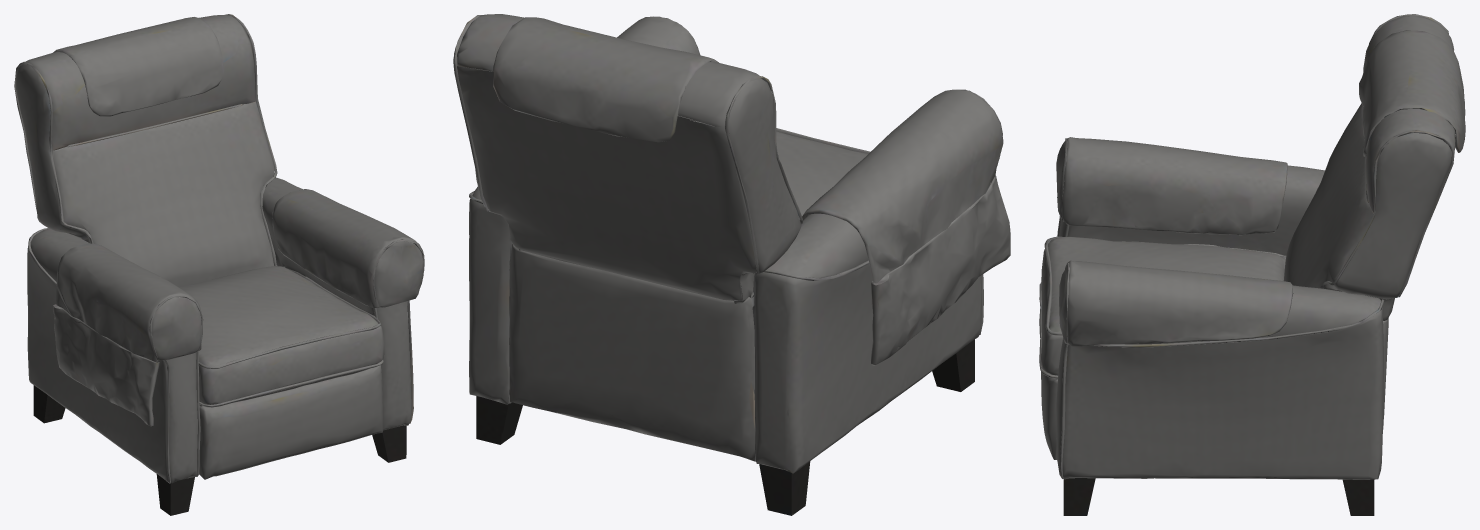
Rendered from 28 - MUREN Recliner - Remmarn light grey.glb.
3 renders of one model, left to right at view 1: azimuth 30°, elevation 25°; view 2: azimuth 150°, elevation 25°; view 3: azimuth 270°, elevation 25°, orthographic. The views are drawn at different scales.
Visible parts, largest first — view 1: 00438553-MUREN001; view 2: 00438553-MUREN001; view 3: 00438553-MUREN001.
Part boxes in pixels (x1,y1,x2,y2): 00438553-MUREN001: [14, 14, 424, 515]; 00438553-MUREN001: [453, 14, 1010, 515]; 00438553-MUREN001: [1039, 14, 1465, 515].
Size of the model in its own units: 0.8662 by 0.9788 by 0.9807.
Materials: 1 (1 with a texture image).
